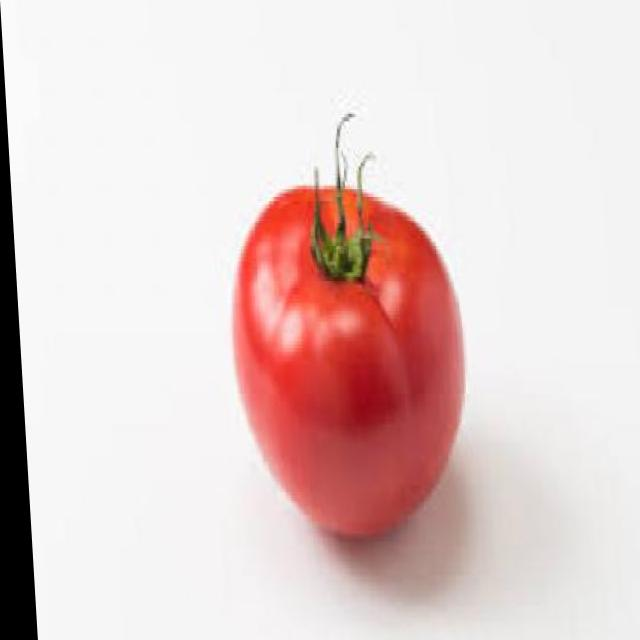kirmizi: (206, 131, 525, 573)
